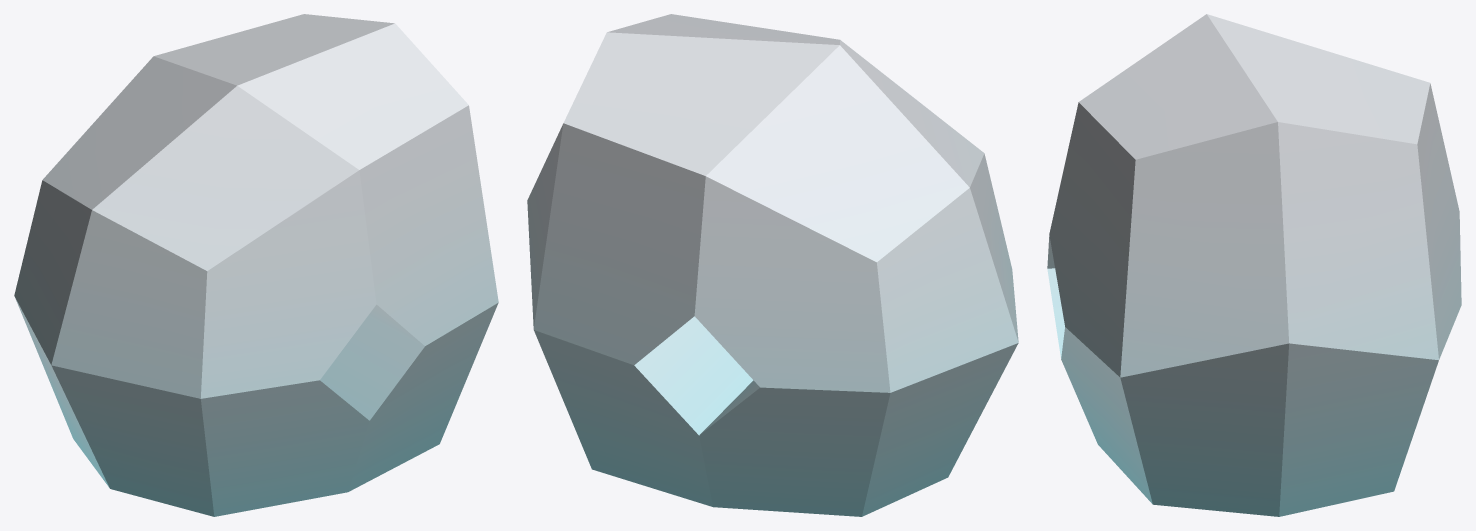
The model's file is SwordStand.fbx.
3 views of the same model, side by side, from view 1: azimuth 30°, elevation 25°; view 2: azimuth 150°, elevation 25°; view 3: azimuth 270°, elevation 25° (orthographic). The views are drawn at different scales.
Visible parts, largest first — view 1: SwordStand; view 2: SwordStand; view 3: SwordStand.
Part boxes in pixels (x1=…): SwordStand: x1=14, y1=14, x2=498, y2=516; SwordStand: x1=527, y1=14, x2=1018, y2=516; SwordStand: x1=1047, y1=14, x2=1461, y2=516.
Bounding box in the file's own units: 859 × 709 × 664.
Materials: 1 (1 with a texture image).
